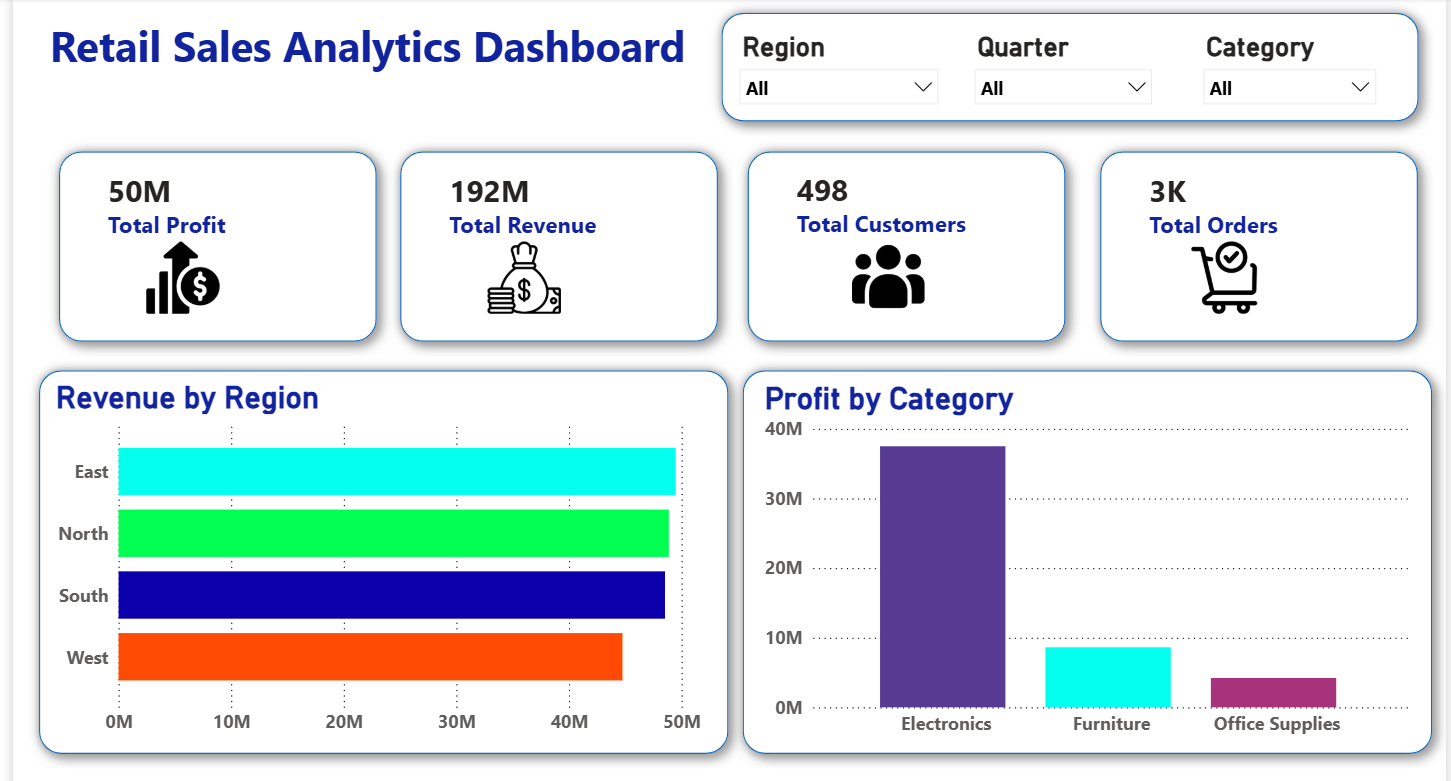

This screenshot's page, from the dashboard's own definition file:
{"tool":"powerbi","page":{"name":"Executive Summary","canvas":[1280,720],"ordinal":0},"visuals":[{"type":"group","id":"g1","title":"Group 1","box":[619.3,0,649.1,123.5],"z":0,"group":"g6"},{"type":"shape","box":[619.3,0,649.1,123.5],"z":0,"group":"g1"},{"type":"group","id":"g2","title":"Group 1","box":[27.8,123.5,310.1,196.2],"z":0,"group":"g10"},{"type":"shape","box":[27.8,123.5,310.1,196.2],"z":0,"group":"g2"},{"type":"shape","box":[332.5,123.5,310.1,196.2],"z":0,"group":"g3"},{"type":"shape","box":[642.6,123.5,310.1,196.2],"z":0,"group":"g4"},{"type":"shape","box":[958.2,123.5,310.1,196.2],"z":0,"group":"g5"},{"type":"shape","box":[10,319.7,642.2,369.1],"z":0,"group":"g7"},{"type":"shape","box":[638.5,319.7,642.2,369.1],"z":0,"group":"g8"},{"type":"clusteredBarChart","title":"Revenue by Region","fields":{"Y":["Sum(Orders_Big.Revenue)"],"Category":["Orders_Big.Region"]},"box":[33.3,340.3,585.9,328],"z":0,"group":"g9"},{"type":"slicer","fields":{"Values":["Orders_Big.OrderDate.Variation.Date Hierarchy.Quarter"]},"box":[848.3,24.7,179.2,90.6],"z":1000,"group":"g6"},{"type":"group","id":"g3","title":"Group 1","box":[332.5,123.5,310.1,196.2],"z":1000,"group":"g10"},{"type":"cardVisual","fields":{"Data":["Orders_Big.Total Customers"]},"box":[670,134,222.3,164.7],"z":1000,"group":"g4"},{"type":"cardVisual","fields":{"Data":["Orders_Big.Total profit"]},"box":[55.7,134.5,192.1,164.7],"z":1000,"group":"g2"},{"type":"cardVisual","fields":{"Data":["Orders_Big.Total Revenue"]},"box":[360.4,134.5,192.1,164.7],"z":1000,"group":"g3"},{"type":"cardVisual","fields":{"Data":["Orders_Big.Total Orders"]},"box":[986.1,134.5,192.1,164.7],"z":1000,"group":"g5"},{"type":"columnChart","title":"Profit by Category","fields":{"Y":["Sum(Orders_Big.Profit)"],"Category":["Products_Big.Category"]},"box":[665.9,341.7,585.9,328],"z":1000,"group":"g9"},{"type":"slicer","fields":{"Values":["Products_Big.Category"]},"box":[1052.4,24.7,174.4,79.6],"z":2000,"group":"g6"},{"type":"group","id":"g4","title":"Group 1","box":[642.6,123.5,310.1,196.2],"z":2000,"group":"g10"},{"type":"slicer","fields":{"Values":["Orders_Big.Region"]},"box":[638.3,24.7,198.2,74.1],"z":3000,"group":"g6"},{"type":"group","id":"g5","title":"Group 1","box":[958.2,123.5,310.1,196.2],"z":3000,"group":"g10"},{"type":"group","id":"g6","title":"Group 2","box":[619.3,0,649.1,123.5],"z":4000,"group":"g10"},{"type":"group","id":"g7","title":"Group 1","box":[10,319.7,642.2,369.1],"z":5000,"group":"g10"},{"type":"textbox","box":[27.8,12.3,591.4,89.2],"z":6000,"group":"g10"},{"type":"group","id":"g8","title":"Group 1","box":[638.5,319.7,642.2,369.1],"z":7000,"group":"g10"},{"type":"group","id":"g9","title":"Group 3","box":[33.3,340.3,1218.5,329.3],"z":8002,"group":"g10"},{"type":"group","id":"g10","title":"Group 4","box":[10,0,1270,688.6],"z":8003}]}

Visuals, with their boxes on the page's 1280x720 design canvas (x1, y1, x2, y2). These are canvas units, not pixel positions in the 1451x781 screenshot, which may show the page scaled, cropped or inside an application window:
"Group 1" group: pyautogui.locateOnScreen(619, 0, 1268, 124)
shape: pyautogui.locateOnScreen(619, 0, 1268, 124)
"Group 1" group: pyautogui.locateOnScreen(28, 124, 338, 320)
shape: pyautogui.locateOnScreen(28, 124, 338, 320)
shape: pyautogui.locateOnScreen(332, 124, 643, 320)
shape: pyautogui.locateOnScreen(643, 124, 953, 320)
shape: pyautogui.locateOnScreen(958, 124, 1268, 320)
shape: pyautogui.locateOnScreen(10, 320, 652, 689)
shape: pyautogui.locateOnScreen(638, 320, 1281, 689)
"Revenue by Region" clusteredBarChart: pyautogui.locateOnScreen(33, 340, 619, 668)
slicer - Orders_Big.OrderDate.Variation.Date Hierarchy.Quarter: pyautogui.locateOnScreen(848, 25, 1028, 115)
"Group 1" group: pyautogui.locateOnScreen(332, 124, 643, 320)
cardVisual - Orders_Big.Total Customers: pyautogui.locateOnScreen(670, 134, 892, 299)
cardVisual - Orders_Big.Total profit: pyautogui.locateOnScreen(56, 134, 248, 299)
cardVisual - Orders_Big.Total Revenue: pyautogui.locateOnScreen(360, 134, 552, 299)
cardVisual - Orders_Big.Total Orders: pyautogui.locateOnScreen(986, 134, 1178, 299)
"Profit by Category" columnChart: pyautogui.locateOnScreen(666, 342, 1252, 670)
slicer - Products_Big.Category: pyautogui.locateOnScreen(1052, 25, 1227, 104)
"Group 1" group: pyautogui.locateOnScreen(643, 124, 953, 320)
slicer - Orders_Big.Region: pyautogui.locateOnScreen(638, 25, 836, 99)
"Group 1" group: pyautogui.locateOnScreen(958, 124, 1268, 320)
"Group 2" group: pyautogui.locateOnScreen(619, 0, 1268, 124)
"Group 1" group: pyautogui.locateOnScreen(10, 320, 652, 689)
textbox: pyautogui.locateOnScreen(28, 12, 619, 102)
"Group 1" group: pyautogui.locateOnScreen(638, 320, 1281, 689)
"Group 3" group: pyautogui.locateOnScreen(33, 340, 1252, 670)
"Group 4" group: pyautogui.locateOnScreen(10, 0, 1280, 689)
